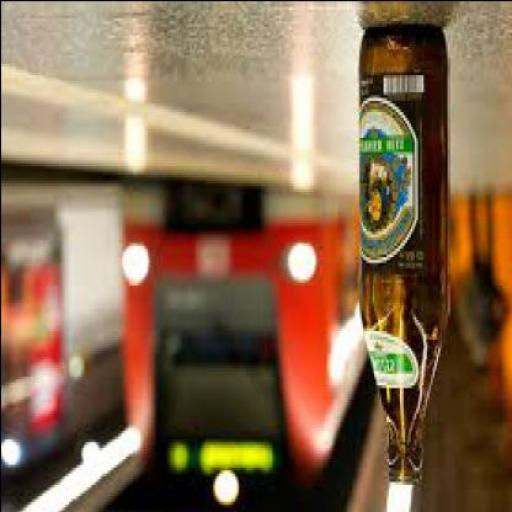glass: (355, 26, 446, 484)
